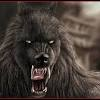Lobo: (6, 1, 66, 97)
